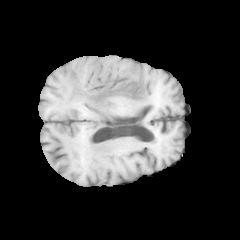glioma: (67, 68, 151, 118)
